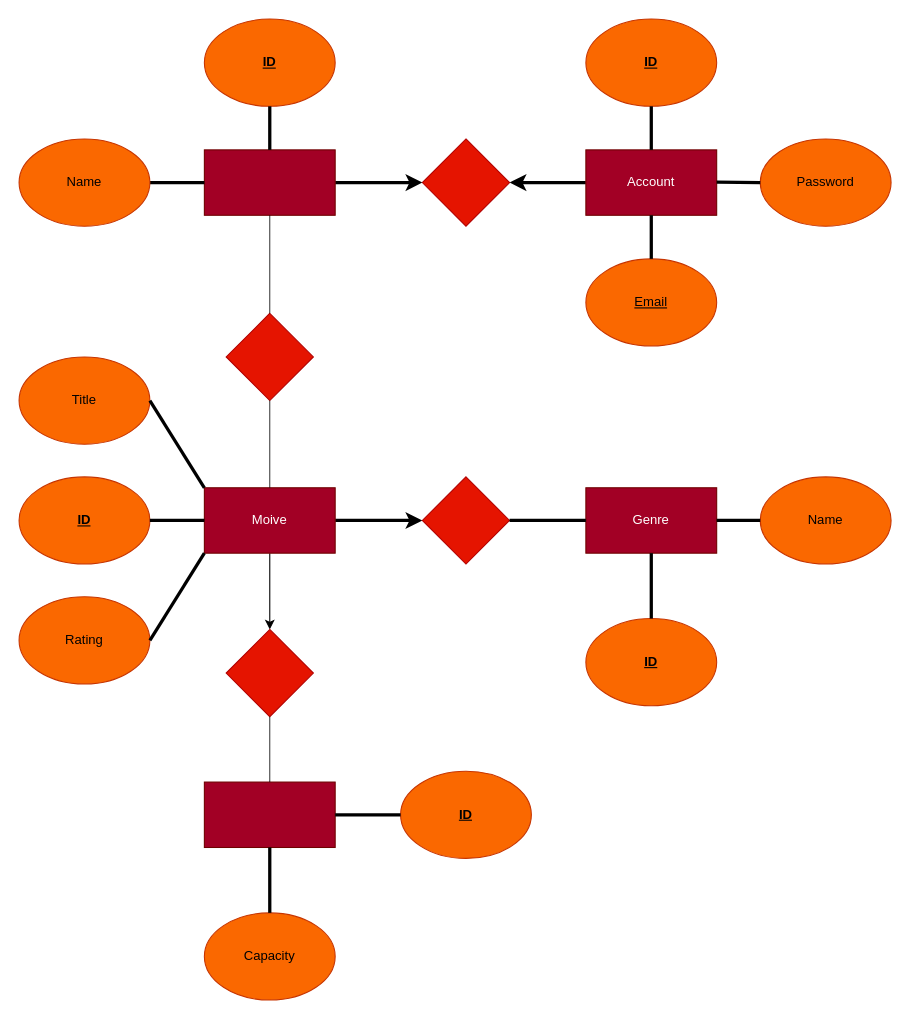
Image size: 910x1019. Some labels were removed from this diagram. The shapes that lost their labels are listed below. From the top down, each one's box as (x1, y1, x2, y2) in pixels, then its label:
(203, 149, 335, 215): User
(421, 138, 510, 226): Has an
(225, 312, 313, 401): Watches
(421, 476, 510, 564): Has A
(225, 628, 313, 717): Is Saved to
(203, 781, 335, 847): My Stuff
